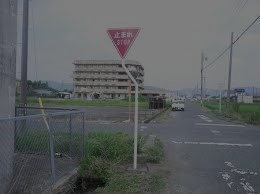Regulatory_sign_triangle: (102, 24, 143, 62)
